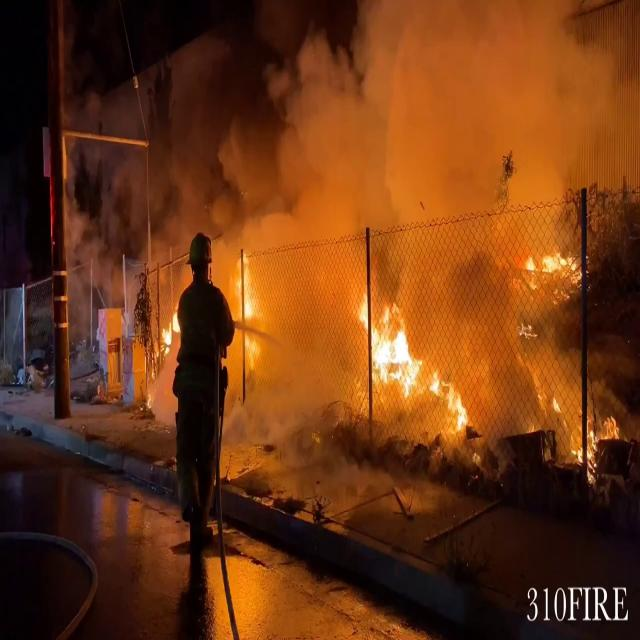Fire: (354, 293, 474, 432), (230, 244, 260, 344), (520, 244, 576, 280), (162, 301, 180, 358)
Smoke: (53, 0, 640, 352)
